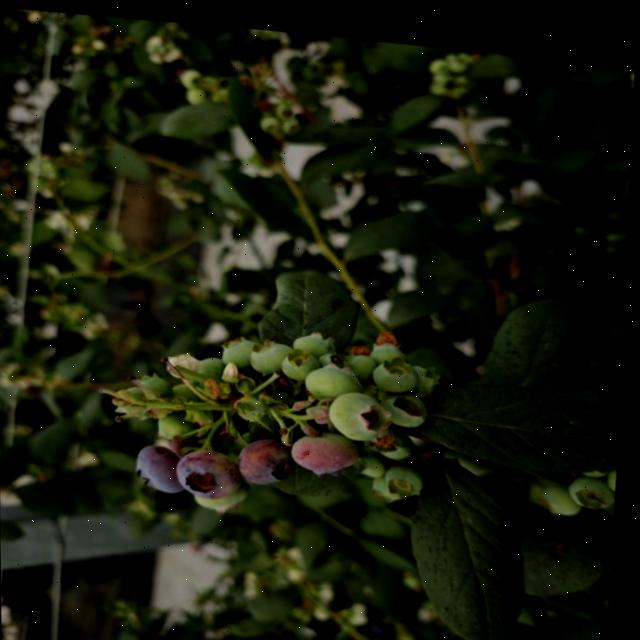Semi-RipeBlueBerry: (181, 439, 247, 498), (295, 422, 368, 473), (241, 426, 300, 482), (138, 435, 192, 491)
UnripeBlueBerry: (332, 377, 394, 436)
